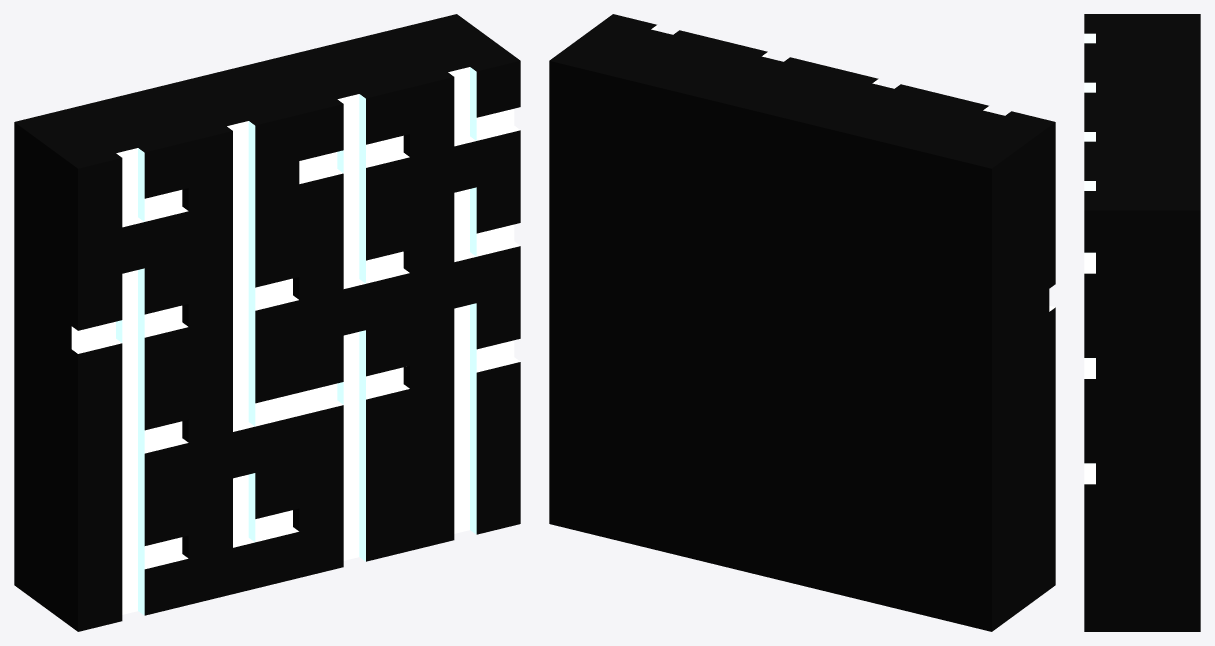
Rendered from tubes_puzzle.fbx.
3 renders of one model, left to right at view 1: azimuth 30°, elevation 25°; view 2: azimuth 150°, elevation 25°; view 3: azimuth 270°, elevation 25°, orthographic. The views are drawn at different scales.
Parts seen in each view (by area): view 1: side, sidsed2_1, sidsed2_3, cross_2, straight, side_2, cross_1, side_5, straight_3, side_1, side_4, sidsed2 (+4 smaller); view 2: side, sidsed2_1, sidsed2_3, cross_2, straight, side_2, cross_1, side_4, side_5, sidsed2, cross, straight_3 (+4 smaller); view 3: side_2, sidsed2_2, straight_2, side_3, cross_1, straight, side.
Boxes of the visible parts, x1,y1,x2,y2 form: side: [14, 95, 188, 284]; sidsed2_1: [14, 470, 188, 631]; sidsed2_3: [14, 354, 188, 515]; cross_2: [14, 238, 188, 400]; straight: [125, 68, 299, 257]; side_2: [346, 14, 520, 203]; cross_1: [236, 41, 409, 230]; side_5: [182, 346, 299, 488]; straight_3: [293, 435, 409, 577]; side_1: [293, 203, 409, 346]; side_4: [182, 462, 299, 604]; sidsed2: [182, 230, 299, 373]; side: [881, 95, 1055, 284]; sidsed2_1: [881, 470, 1055, 631]; sidsed2_3: [881, 354, 1055, 515]; cross_2: [881, 238, 1055, 400]; straight: [770, 68, 944, 257]; side_2: [549, 14, 723, 203]; cross_1: [660, 41, 833, 230]; side_4: [770, 462, 881, 604]; side_5: [770, 346, 881, 488]; sidsed2: [770, 230, 881, 373]; cross: [660, 319, 770, 461]; straight_3: [660, 435, 770, 577]; side_2: [1084, 161, 1200, 315]; sidsed2_2: [1084, 421, 1200, 526]; straight_2: [1084, 526, 1200, 631]; side_3: [1084, 316, 1200, 421]; cross_1: [1084, 112, 1200, 161]; straight: [1084, 63, 1200, 112]; side: [1084, 14, 1200, 62].
Bounding box in the file's own units: 200 × 200 × 50.
